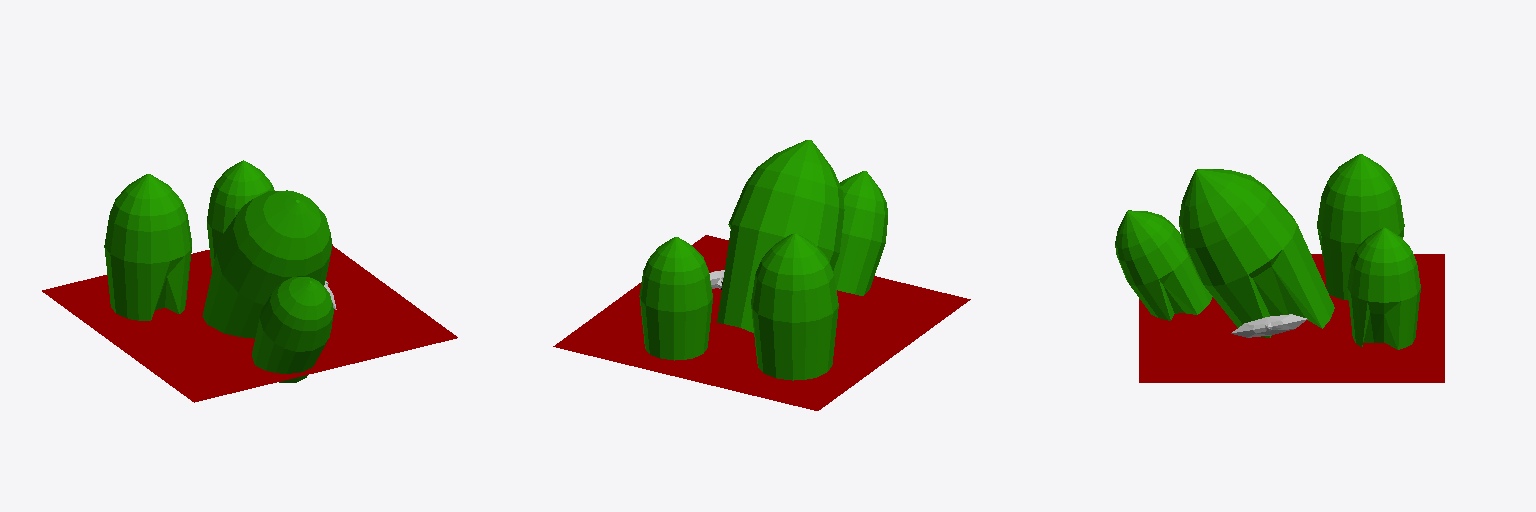
Rendered from GiantLiar2d.obj.
The picture shows the model from 3 angles: view 1: azimuth 30°, elevation 25°; view 2: azimuth 150°, elevation 25°; view 3: azimuth 270°, elevation 25°; orthographic projection.
Parts seen in each view (by area): view 1: Plane.004, Plane, Plane.003, Plane.002, Plane.001; view 2: Plane.004, Plane, Plane.003, Plane.001, Plane.002; view 3: Plane.004, Plane, Plane.003, Plane.001, Plane.002, Cube.001_Cube.002.
Part boxes in pixels (x1,y1,x2,y2): Plane.004: (42, 245, 457, 402); Plane: (202, 190, 332, 338); Plane.003: (104, 174, 191, 320); Plane.002: (252, 277, 333, 382); Plane.001: (207, 160, 274, 269); Plane.004: (553, 235, 970, 410); Plane: (717, 140, 844, 332); Plane.003: (751, 233, 838, 380); Plane.001: (639, 237, 712, 360); Plane.002: (833, 171, 887, 295); Plane.004: (1139, 254, 1444, 382); Plane: (1179, 169, 1334, 337); Plane.003: (1317, 154, 1404, 300); Plane.001: (1347, 227, 1420, 349); Plane.002: (1115, 210, 1212, 320); Cube.001_Cube.002: (1231, 314, 1307, 337).
Bounding box in the file's own units: 12.86 × 8 × 13.87.